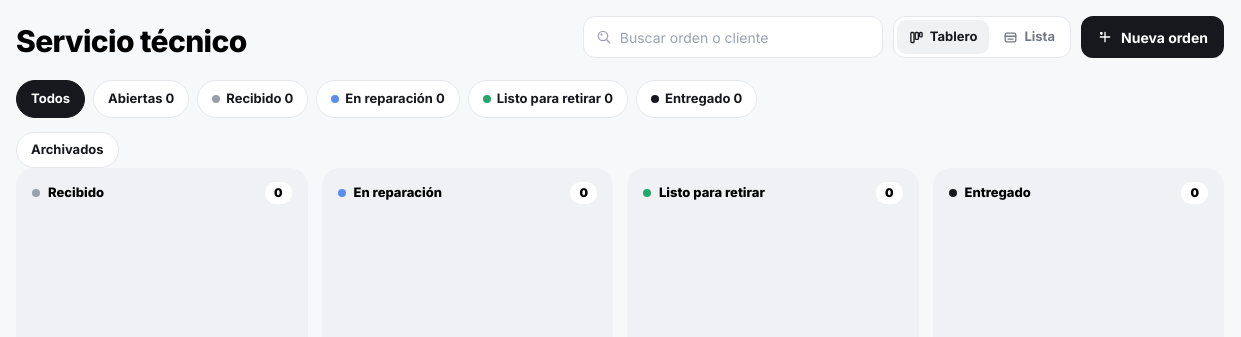
servicio › logs failed archive loads and keeps a neutral empty list without alerts
Click the button "Archivados".
click(67, 150)  # box [16,132,119,168]
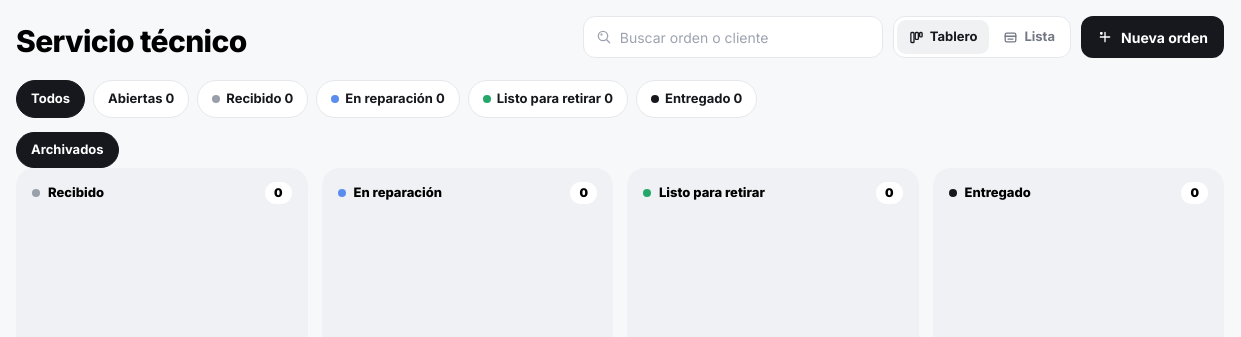
Click the button "Lista".
click(1029, 37)  # box [992,20,1067,54]
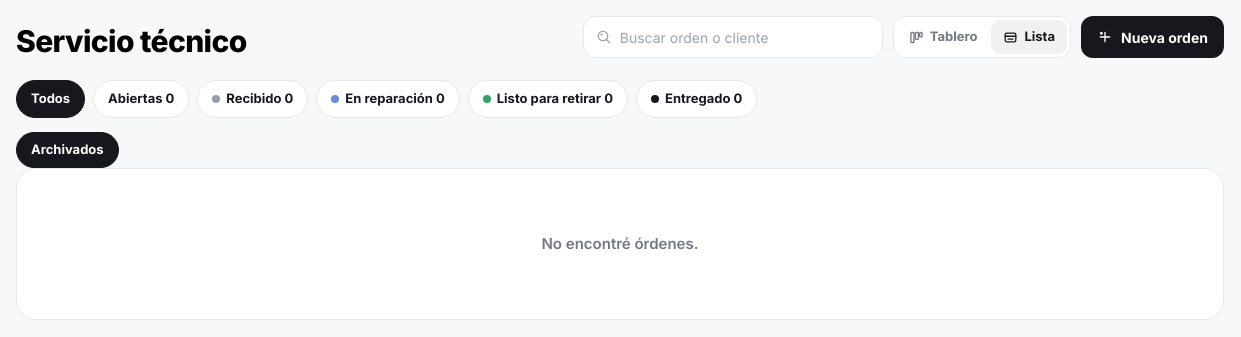
expect the text "No encontré órdenes." is shown: met, box [542,234,698,252]
